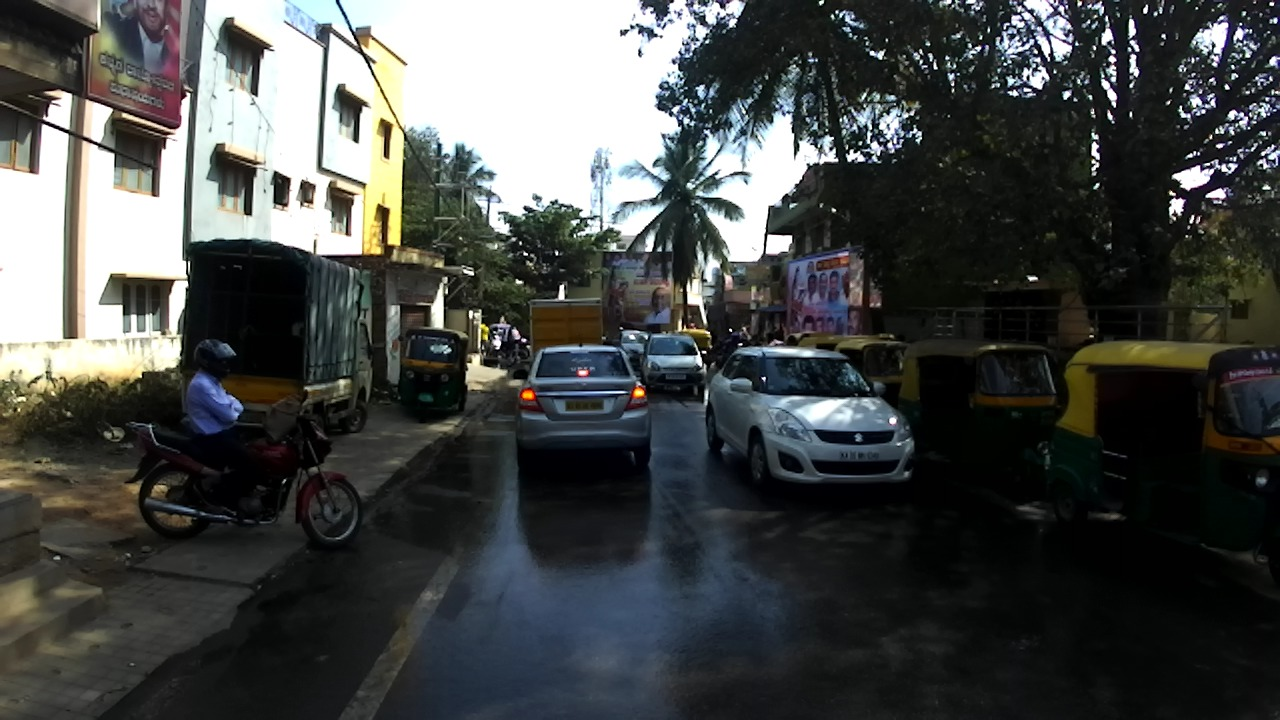autorickshaw: (1050, 341, 1280, 583), (898, 337, 1059, 495), (398, 325, 469, 424), (834, 338, 906, 411), (800, 333, 894, 349), (676, 329, 712, 364), (785, 330, 810, 349)
car: (703, 346, 916, 494), (512, 342, 652, 469), (639, 333, 707, 393), (612, 329, 654, 370)
motorcycle: (125, 389, 365, 550), (503, 339, 532, 359), (727, 326, 747, 349), (492, 334, 502, 356)
person: (481, 318, 490, 357), (783, 330, 799, 348), (763, 332, 778, 347)
rider: (185, 338, 259, 514), (734, 319, 755, 342), (762, 332, 787, 348), (511, 326, 520, 365), (721, 339, 737, 359), (489, 325, 499, 340)
truck: (179, 239, 373, 432), (529, 297, 603, 365)
vehicle fallback: (489, 323, 510, 346)
